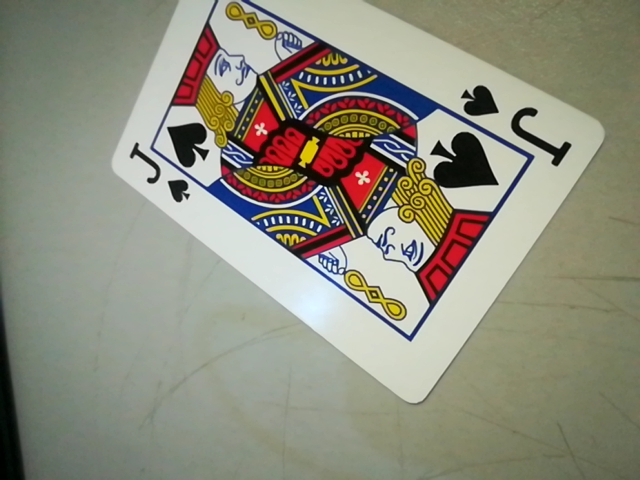ht j: (115, 144, 196, 210)
